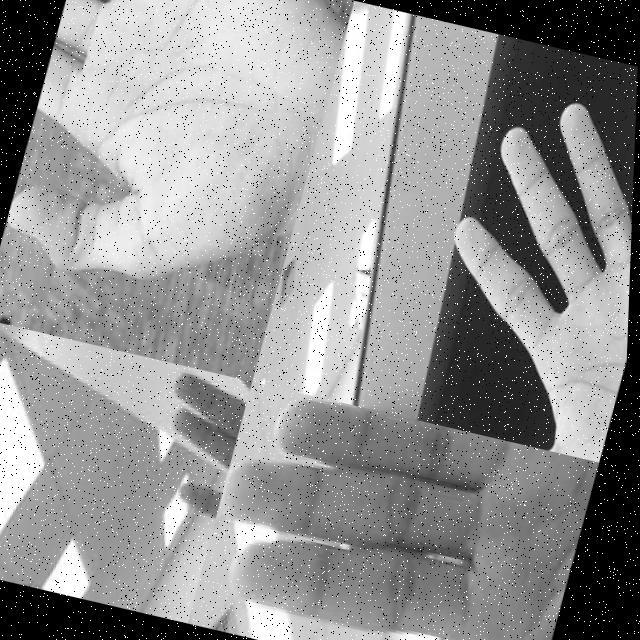no-gloves: (0, 0, 354, 316), (191, 380, 605, 640), (404, 48, 638, 461), (137, 362, 255, 536)
